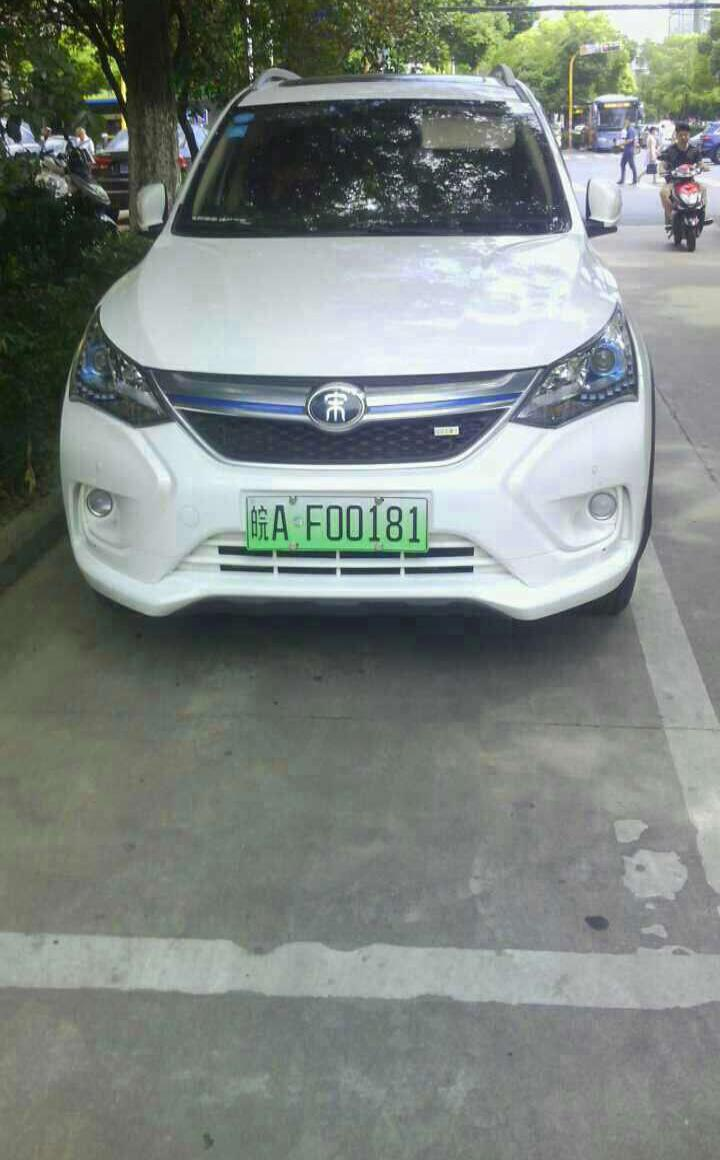car_green: (240, 491, 434, 563)
